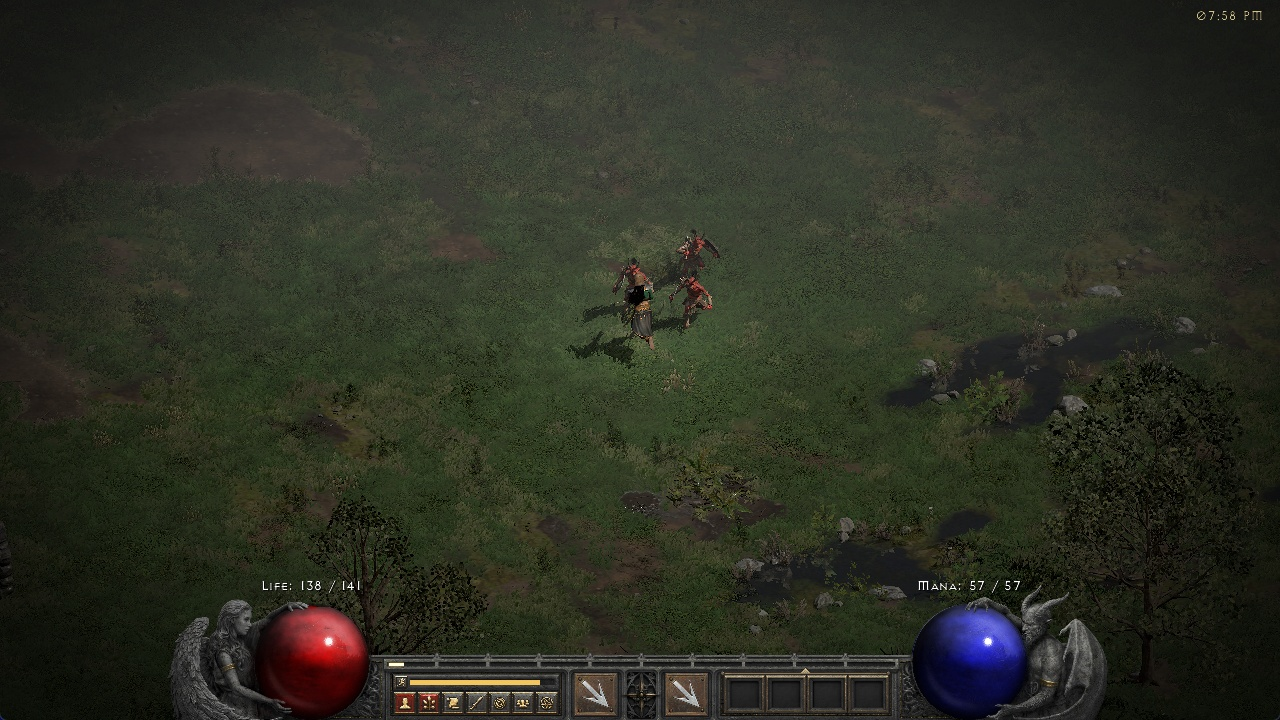fallen: (668, 271, 718, 328), (673, 232, 722, 269), (612, 257, 649, 279)
